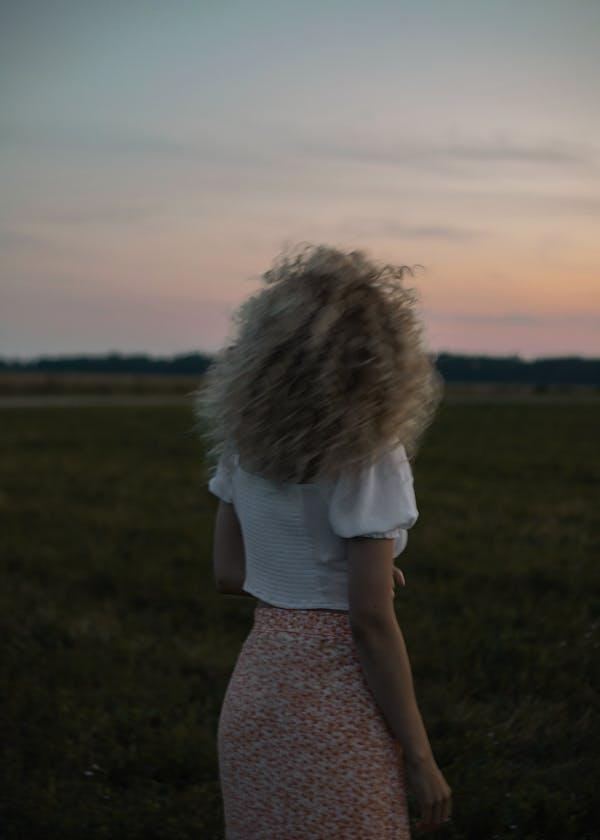Human: (158, 178, 497, 840)
